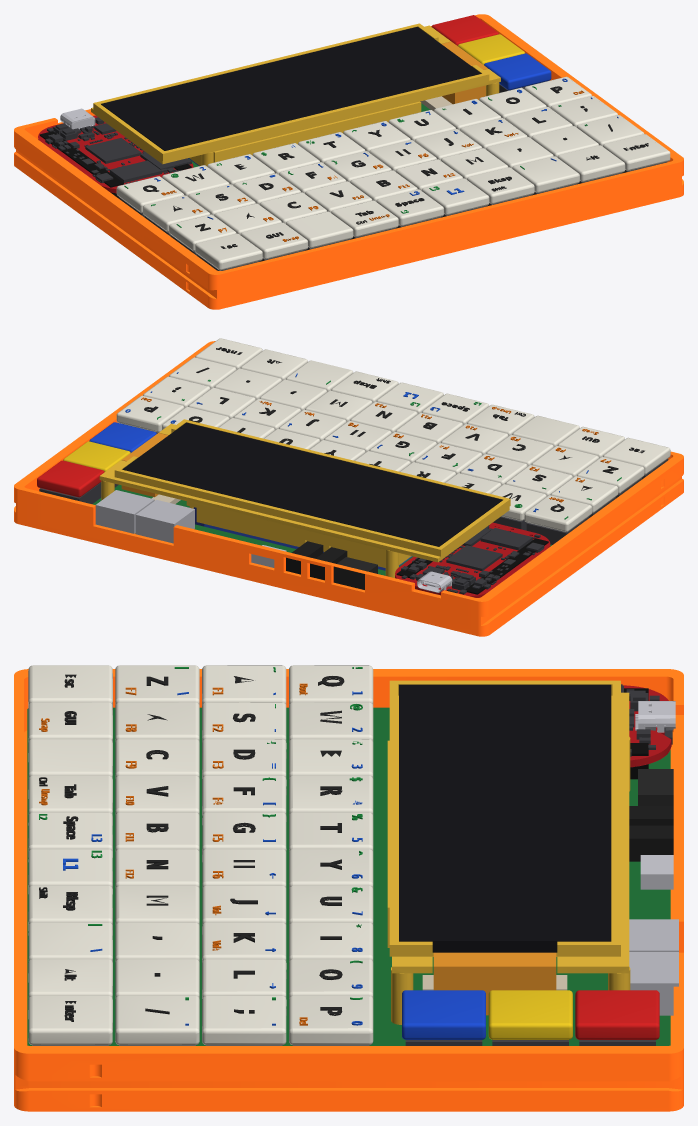
Rendered from open_tangerine.glb.
3 renders of one model, top to bottom at view 1: azimuth 30°, elevation 25°; view 2: azimuth 150°, elevation 25°; view 3: azimuth 270°, elevation 25°, orthographic. The views are drawn at different scales.
Parts seen in each view (by area): view 1: Internals, Tray; view 2: Internals, Tray; view 3: Internals, Tray.
Boxes of the visible parts, <box> form: Internals: <box>38,15,670,270</box>; Tray: <box>14,14,683,309</box>; Internals: <box>37,338,670,597</box>; Tray: <box>14,341,683,636</box>; Internals: <box>27,665,678,1045</box>; Tray: <box>14,669,683,1111</box>.
Bounding box in the file's own units: 0.1782 × 0.0211 × 0.1312.
